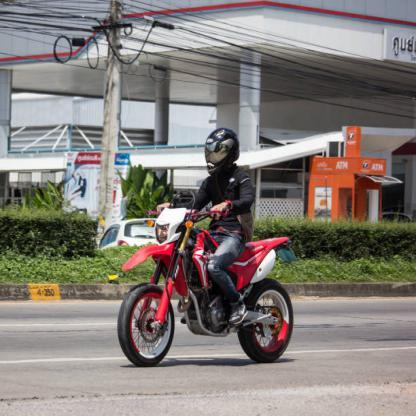Motorcycle: (106, 180, 300, 367)
